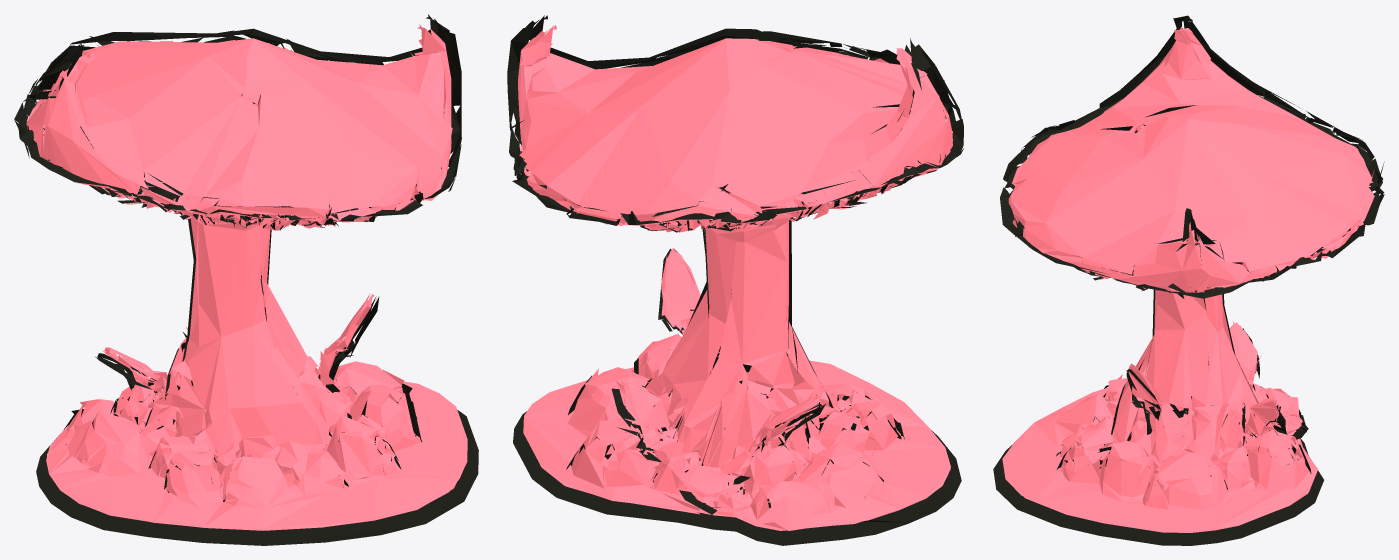
File: df_v2_mushroom_blocker_f_a.glb
3 views of the same model, side by side, from view 1: azimuth 30°, elevation 25°; view 2: azimuth 150°, elevation 25°; view 3: azimuth 270°, elevation 25° (orthographic). The views are drawn at different scales.
Visible parts, largest first — view 1: mushroom_blocker_f_mesh_01, mushroom_blocker_f_mesh_01_ink_outline; view 2: mushroom_blocker_f_mesh_01, mushroom_blocker_f_mesh_01_ink_outline; view 3: mushroom_blocker_f_mesh_01, mushroom_blocker_f_mesh_01_ink_outline.
Boxes of the visible parts, x1,y1,x2,y2 form: mushroom_blocker_f_mesh_01: (26, 24, 467, 530); mushroom_blocker_f_mesh_01_ink_outline: (14, 14, 478, 545); mushroom_blocker_f_mesh_01: (518, 25, 952, 530); mushroom_blocker_f_mesh_01_ink_outline: (507, 15, 963, 545); mushroom_blocker_f_mesh_01: (1002, 26, 1374, 532); mushroom_blocker_f_mesh_01_ink_outline: (993, 15, 1384, 545).
Size of the model in its own units: 1.05 by 1.08 by 0.996.
